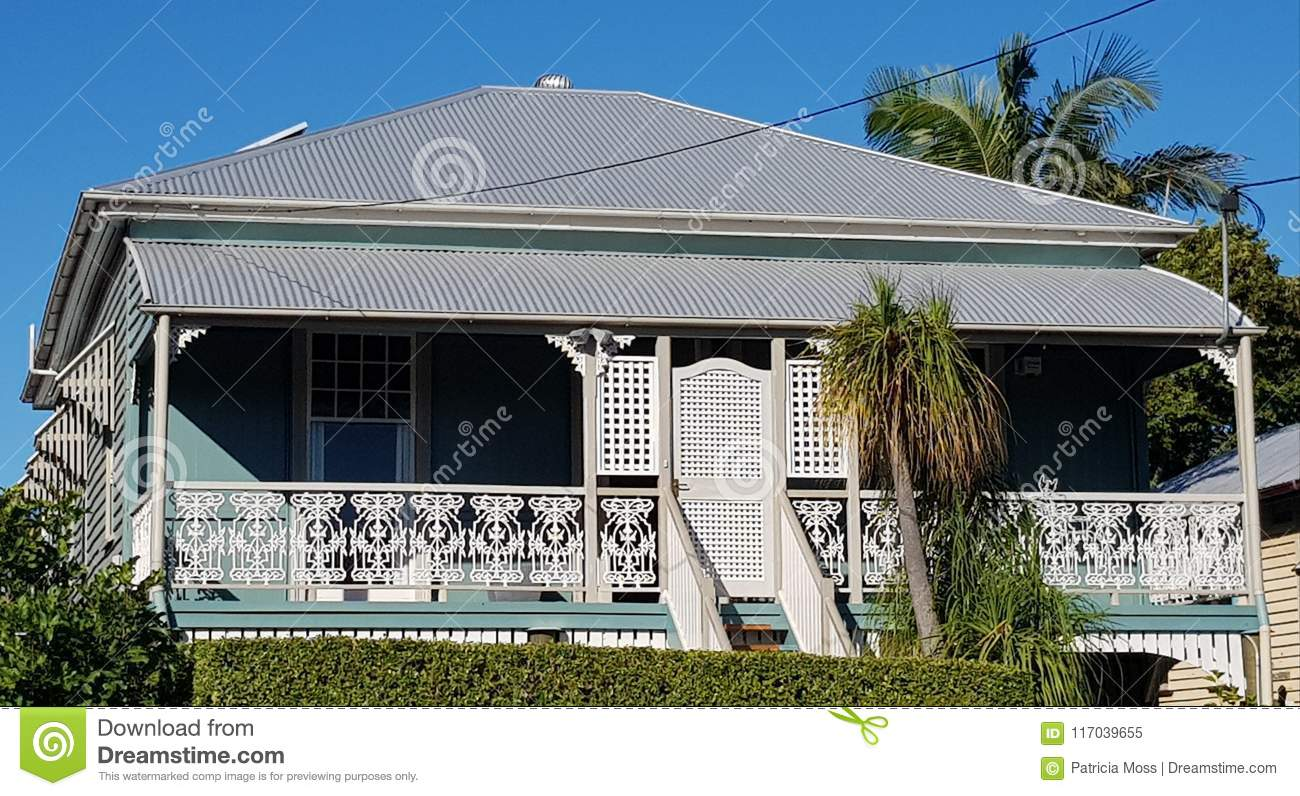Tin-shade House: (56, 76, 1247, 668)
